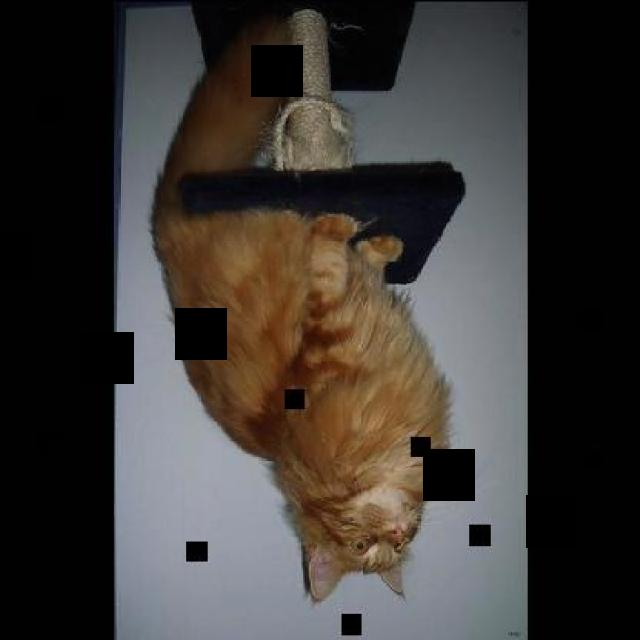unauthorized: (148, 11, 454, 603)
